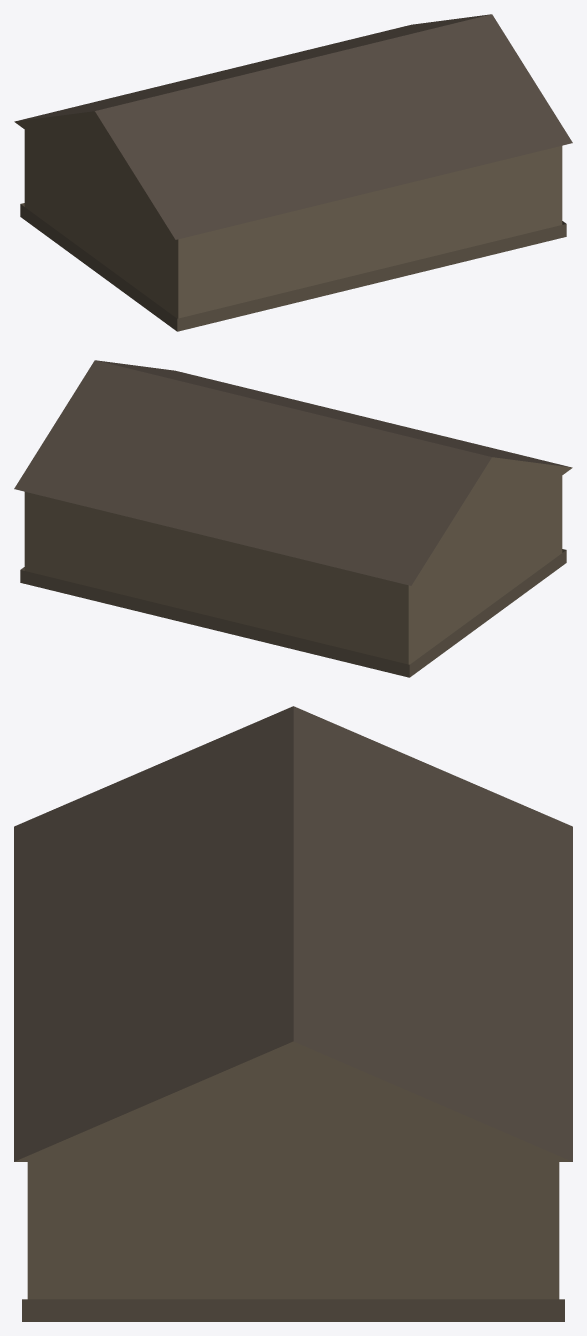
Rendered from zoo-a06266.glb.
3 renders of one model, top to bottom at view 1: azimuth 30°, elevation 25°; view 2: azimuth 150°, elevation 25°; view 3: azimuth 270°, elevation 25°, orthographic. The views are drawn at different scales.
Parts seen in each view (by area): view 1: zoo_a06266; view 2: zoo_a06266; view 3: zoo_a06266.
Part boxes in pixels (bbox=[...]): zoo_a06266: bbox=[14, 14, 572, 331]; zoo_a06266: bbox=[14, 360, 572, 677]; zoo_a06266: bbox=[14, 706, 572, 1321].
Bounding box in the file's own units: 17.6 × 6.95 × 12.4.
